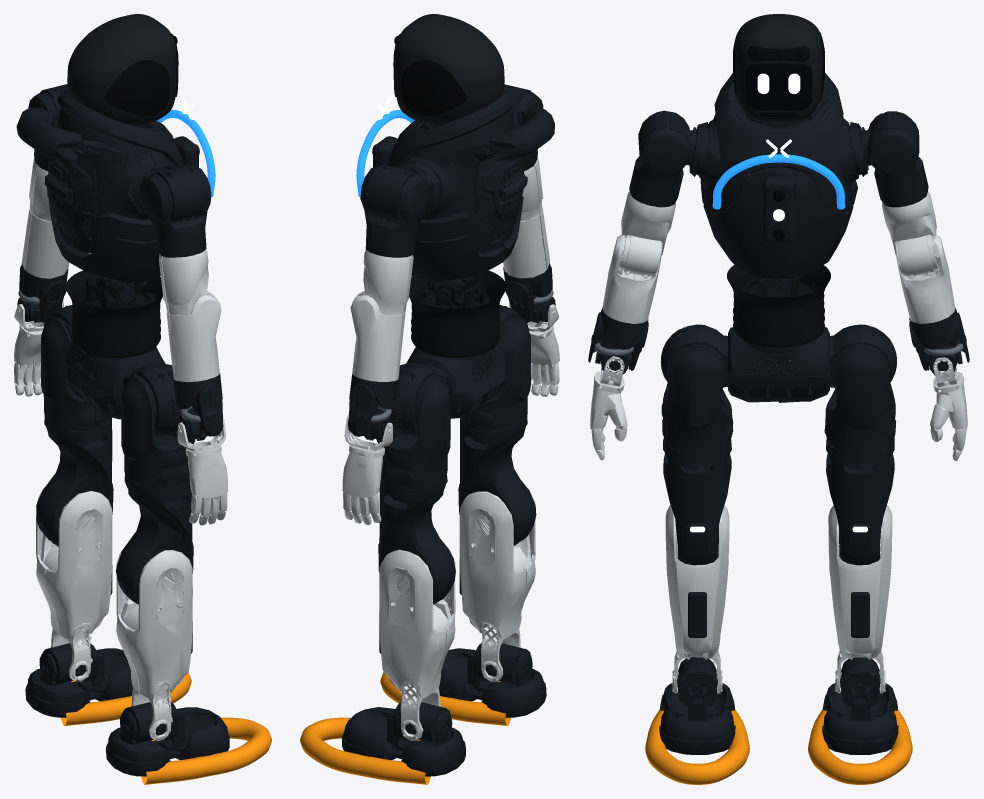
File: agibot-x2-meshy-detailed.glb
The picture shows the model from 3 angles, left to right: view 1: azimuth 30°, elevation 25°; view 2: azimuth 150°, elevation 25°; view 3: azimuth 270°, elevation 25°; orthographic projection.
Visible parts, largest first — view 1: torso_link__visual, left_knee_link__visual, right_knee_link__visual, Head_Housing_Rounded, left_hip_yaw_link__visual, Waist_Sleeve_Core, right_hip_yaw_link__visual, right_ankle_roll_link__visual, right_hip_roll_link__visual, left_ankle_roll_link__visual, left_hip_roll_link__visual, right_elbow_link__visual (+20 smaller); view 2: torso_link__visual, left_knee_link__visual, right_knee_link__visual, Head_Housing_Rounded, right_hip_yaw_link__visual, left_hip_yaw_link__visual, Waist_Sleeve_Core, left_ankle_roll_link__visual, left_hip_roll_link__visual, right_ankle_roll_link__visual, right_hip_roll_link__visual, left_elbow_link__visual (+20 smaller); view 3: torso_link__visual, right_hip_roll_link__visual, left_hip_roll_link__visual, right_hip_yaw_link__visual, left_hip_yaw_link__visual, pelvis__visual, left_knee_link__visual, right_knee_link__visual, Waist_Sleeve_Core, Head_Housing_Rounded, left_ankle_roll_link__visual, right_ankle_roll_link__visual (+25 smaller).
Part boxes in pixels (x1,y1,x2,y2): torso_link__visual: (16,89,183,293); left_knee_link__visual: (36,486,112,681); right_knee_link__visual: (116,545,192,740); Head_Housing_Rounded: (67,14,177,125); left_hip_yaw_link__visual: (36,416,113,545); Waist_Sleeve_Core: (65,270,162,357); right_hip_yaw_link__visual: (115,474,193,604); right_ankle_roll_link__visual: (105,707,229,776); right_hip_roll_link__visual: (121,376,195,489); left_ankle_roll_link__visual: (25,648,132,717); left_hip_roll_link__visual: (41,317,110,430); right_elbow_link__visual: (166,295,221,382); torso_link__visual: (387,89,554,293); left_knee_link__visual: (379,542,455,740); right_knee_link__visual: (459,485,535,681); Head_Housing_Rounded: (395,14,504,126); right_hip_yaw_link__visual: (458,416,536,545); left_hip_yaw_link__visual: (378,475,455,604); Waist_Sleeve_Core: (409,270,506,357); left_ankle_roll_link__visual: (342,707,465,776); left_hip_roll_link__visual: (376,376,450,489); right_ankle_roll_link__visual: (439,648,546,717); right_hip_roll_link__visual: (461,317,530,430); left_elbow_link__visual: (350,295,405,381); torso_link__visual: (689,72,868,297); right_hip_roll_link__visual: (661,325,733,449); left_hip_roll_link__visual: (824,344,896,449); right_hip_yaw_link__visual: (663,437,731,565); left_hip_yaw_link__visual: (826,438,894,565); pelvis__visual: (727,327,829,402); left_knee_link__visual: (828,505,892,693); right_knee_link__visual: (665,505,729,693); Waist_Sleeve_Core: (727,265,830,347); Head_Housing_Rounded: (735,14,822,122); left_ankle_roll_link__visual: (822,658,898,754); right_ankle_roll_link__visual: (659,658,735,754).
Bounding box in the file's own units: 0.3926 × 1.34 × 0.6417.
